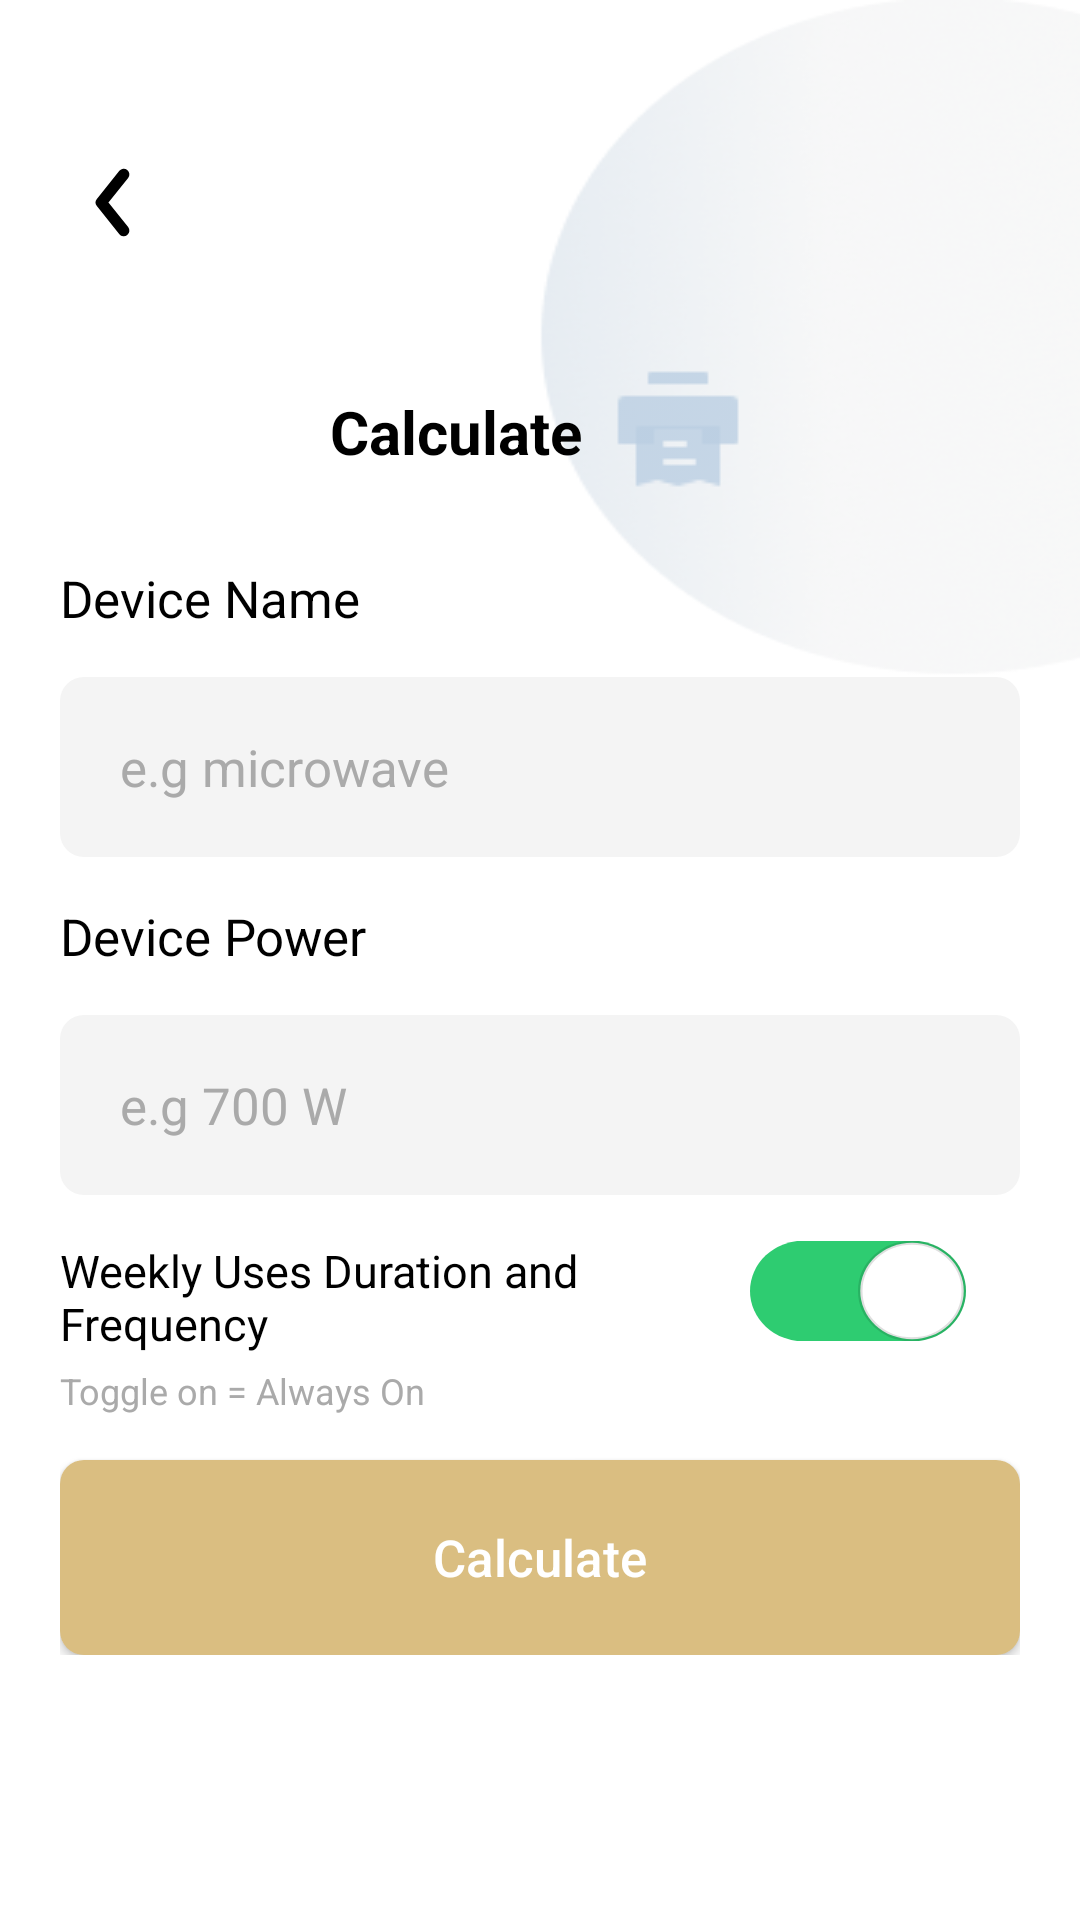

Screen size 1080px×1920px. Icon name, then its box in pixels as (x1, y1, x2, y2):
back arrow: (95, 168, 130, 237)
